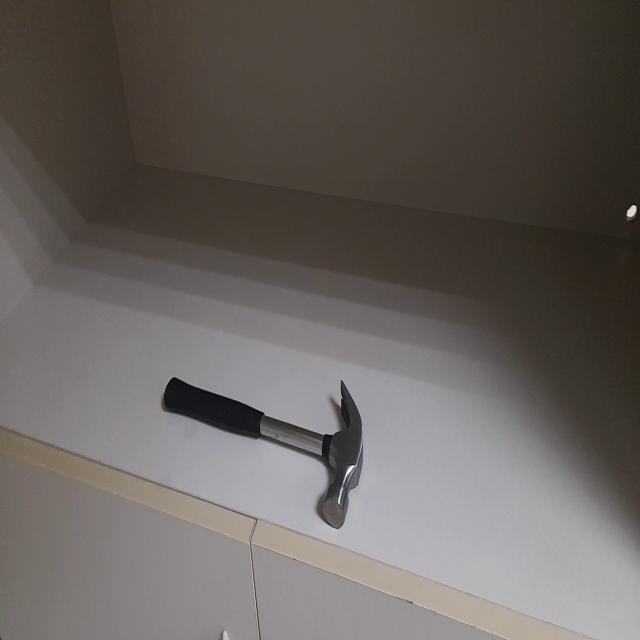hammer: (164, 376, 364, 529)
